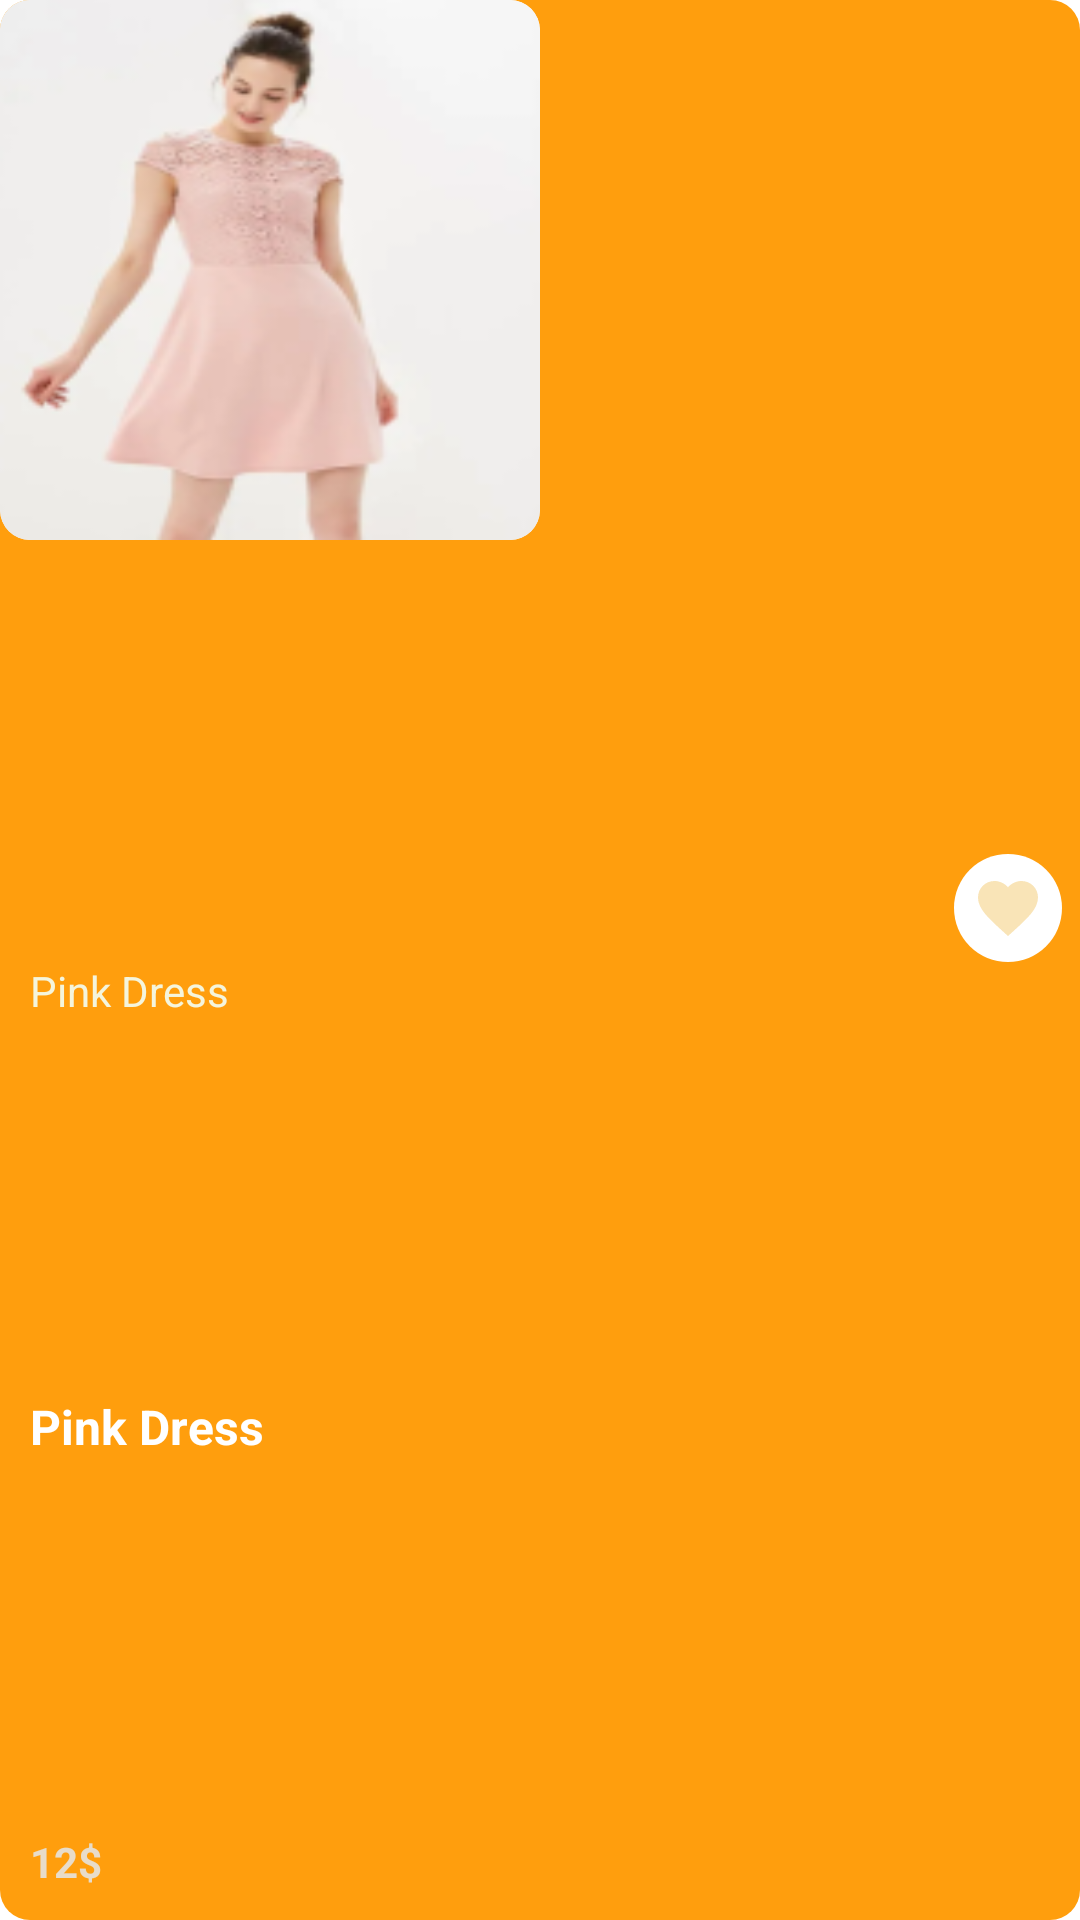

Icons on this 1080px x 1920px Android screen, each with its box as box(x1, y1, x2, y2):
favorite: box(954, 854, 1062, 962)
